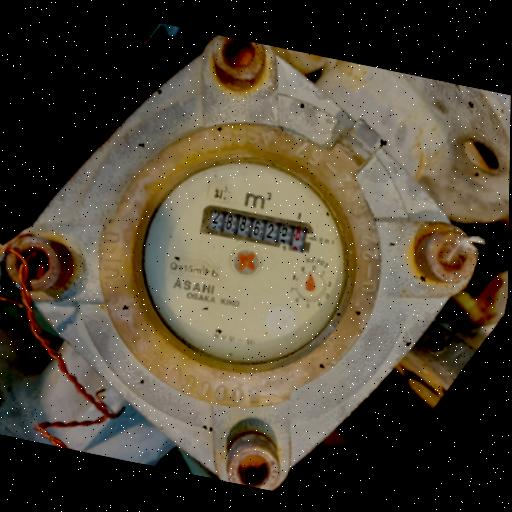2: (208, 208, 224, 231), (264, 219, 277, 240)
6: (251, 216, 264, 237), (278, 222, 291, 243)
8: (290, 225, 304, 252), (223, 212, 236, 233), (237, 215, 249, 236)
border_water_meter_number: (198, 200, 316, 255)
